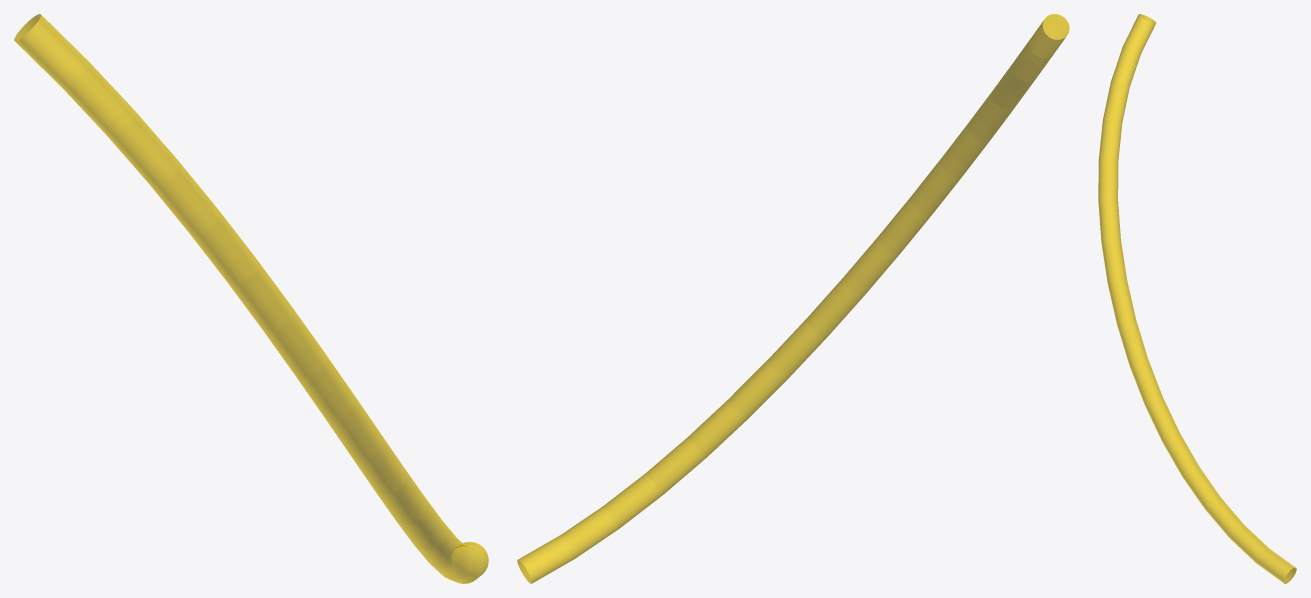
The model's file is Event_419990632_track_57.fbx.
3 renders of one model, left to right at view 1: azimuth 30°, elevation 25°; view 2: azimuth 150°, elevation 25°; view 3: azimuth 270°, elevation 25°, orthographic. The views are drawn at different scales.
Visible parts, largest first — view 1: Model; view 2: Model; view 3: Model.
Part boxes in pixels (<box>): Model: <box>14,14,488,583</box>; Model: <box>517,14,1069,583</box>; Model: <box>1098,14,1296,583</box>.
Size of the model in its own units: 0.7448 by 0.9421 by 0.4006.
